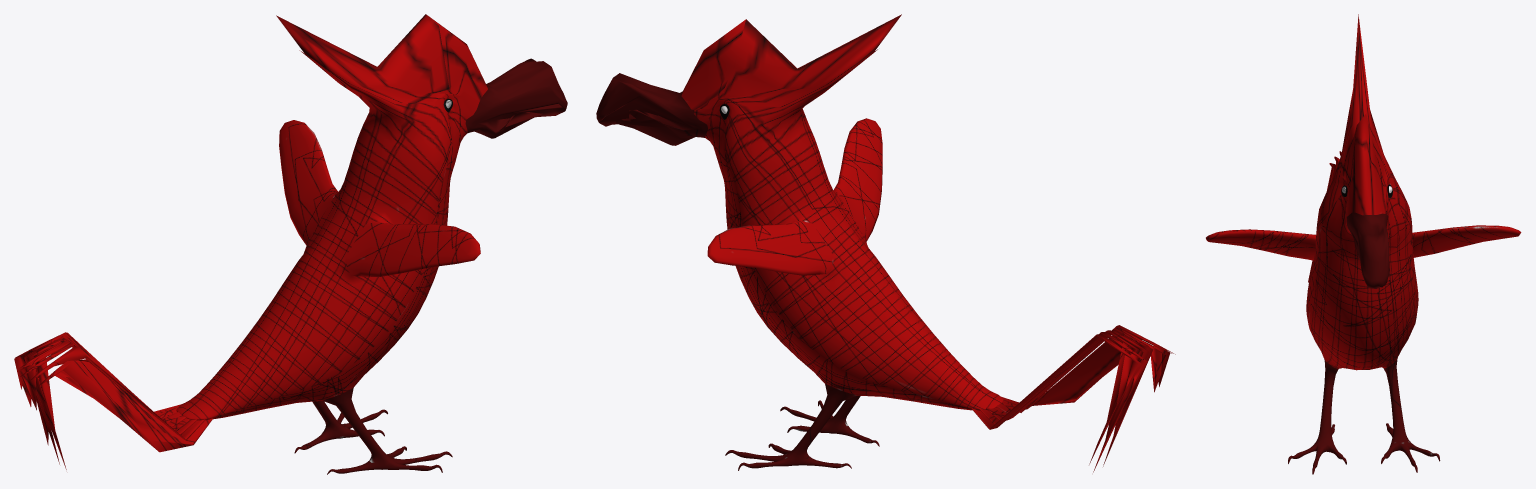
The model's file is relojCuerpoPajaro.obj.
3 views of the same model, side by side, from view 1: azimuth 30°, elevation 25°; view 2: azimuth 150°, elevation 25°; view 3: azimuth 270°, elevation 25° (orthographic). The views are drawn at different scales.
Parts seen in each view (by area): view 1: polySurface74; view 2: polySurface74; view 3: polySurface74.
Part boxes in pixels (x1,y1,x2,y2): polySurface74: (14,14,567,474); polySurface74: (596,14,1175,472); polySurface74: (1206,14,1521,474).
Size of the model in its own units: 143 by 111 by 79.52.
1 material, 1 textured.
